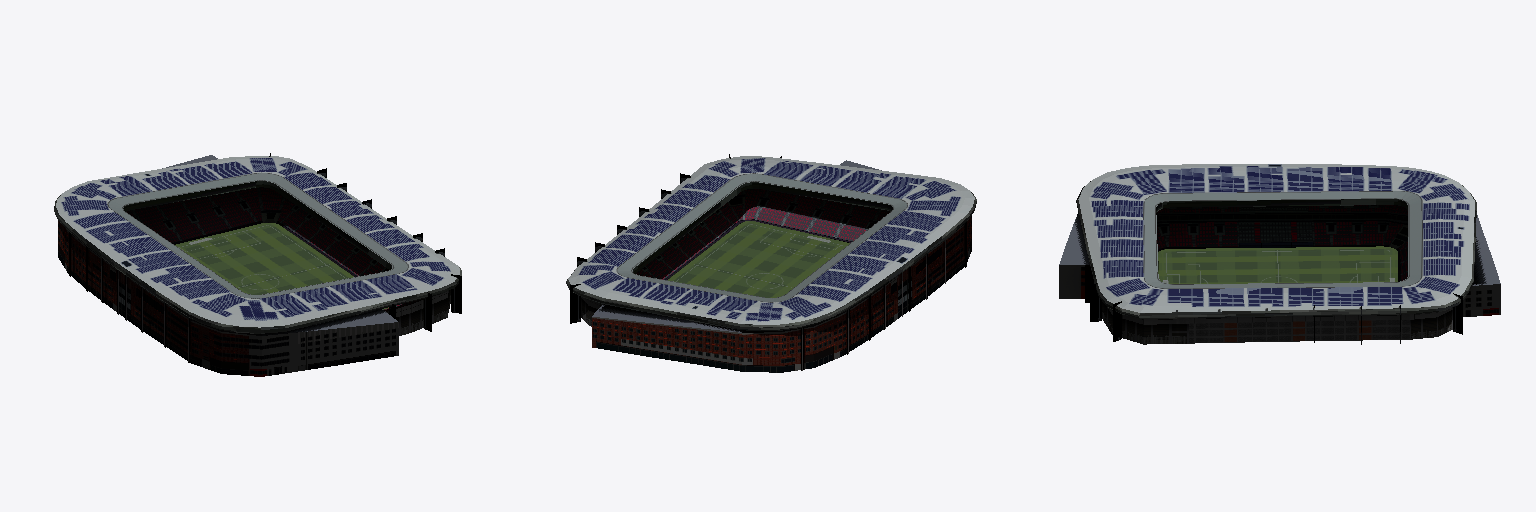
The picture shows the model from 3 angles: view 1: azimuth 30°, elevation 25°; view 2: azimuth 150°, elevation 25°; view 3: azimuth 270°, elevation 25°; orthographic projection.
Visible parts, largest first — view 1: S_Mesh; view 2: S_Mesh; view 3: S_Mesh.
Boxes of the visible parts, x1=… form: S_Mesh: x1=54, y1=153, x2=461, y2=376; S_Mesh: x1=566, y1=154, x2=976, y2=372; S_Mesh: x1=1059, y1=164, x2=1500, y2=344.
Size of the model in its own units: 152 by 28.21 by 210.
1 materials, 1 textured.